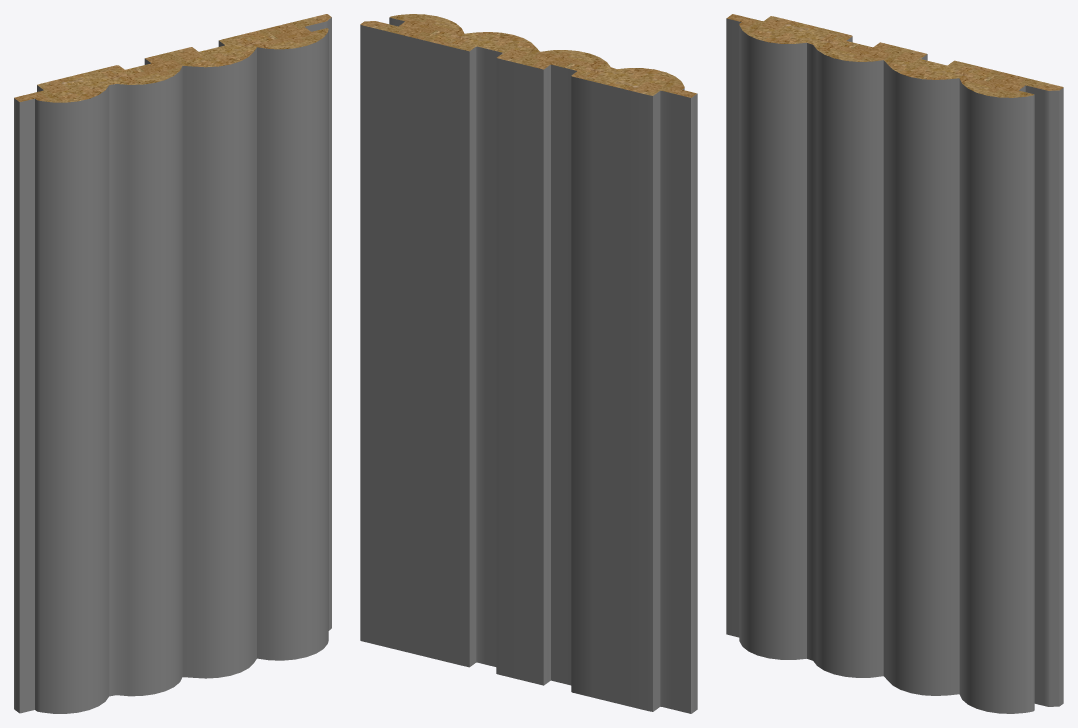
Rendered from rigel.glb.
3 renders of one model, left to right at view 1: azimuth 30°, elevation 25°; view 2: azimuth 150°, elevation 25°; view 3: azimuth 330°, elevation 25°, orthographic.
Visible parts, largest first — view 1: root; view 2: root; view 3: root.
Part boxes in pixels (bbox=[...]): root: bbox=[14, 14, 331, 713]; root: bbox=[360, 14, 697, 713]; root: bbox=[726, 14, 1063, 713].
Size of the model in its own units: 0.12 by 0.2182 by 0.018.
Materials: 2 (1 with a texture image).
